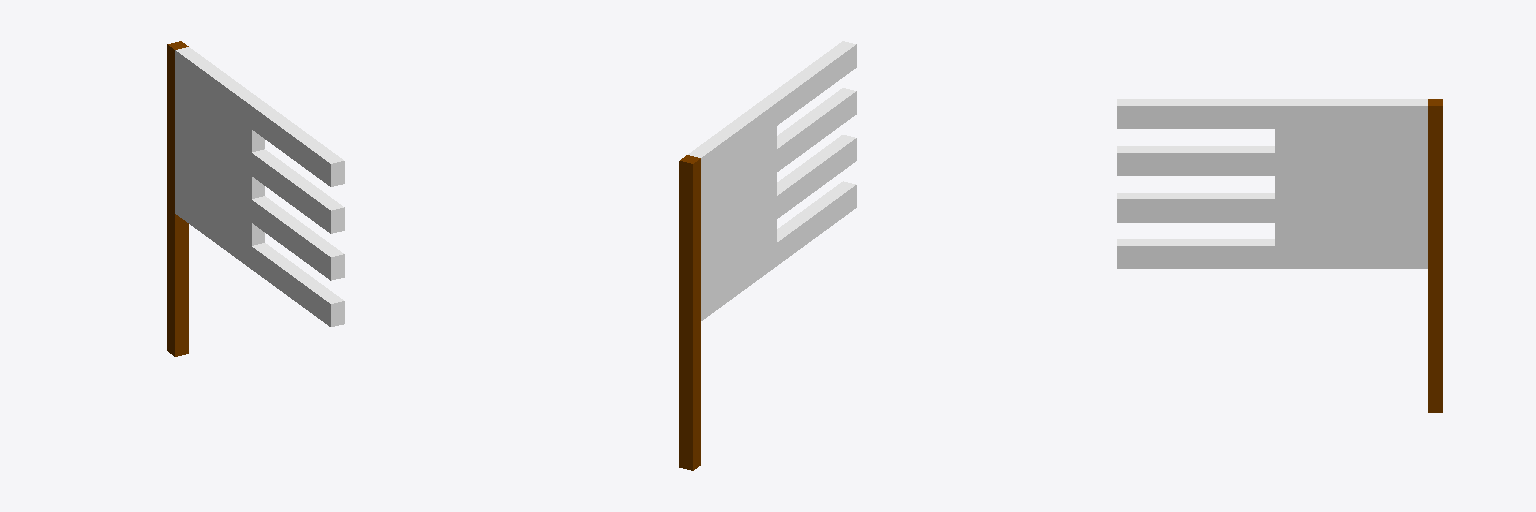
3 renders of one model, left to right at view 1: azimuth 30°, elevation 25°; view 2: azimuth 150°, elevation 25°; view 3: azimuth 270°, elevation 25°, orthographic.
Visible parts, largest first — view 1: Flag04; view 2: Flag04; view 3: Flag04.
Part boxes in pixels (x1,y1,x2,y2): Flag04: (167,41,344,356); Flag04: (679,41,856,470); Flag04: (1117,99,1442,412).
Size of the model in its own units: 0.2 by 4.28 by 4.13.
2 materials, 1 textured.